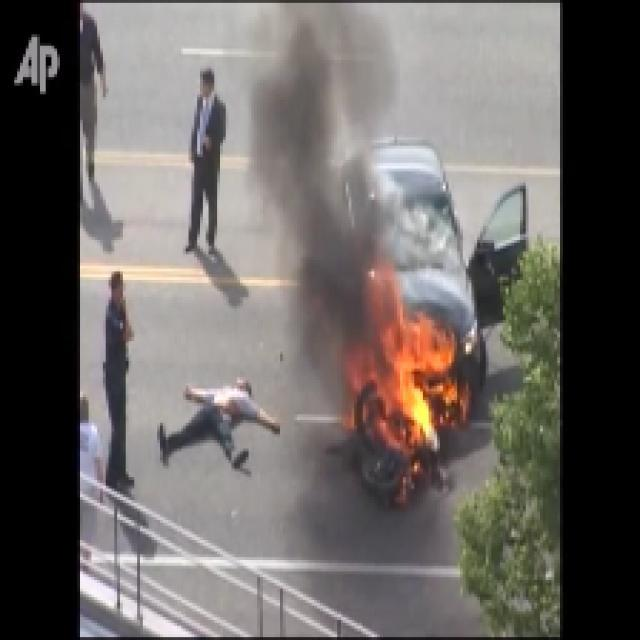Fire: (377, 324, 447, 436)
Smoke: (305, 239, 368, 343), (272, 110, 331, 216)
